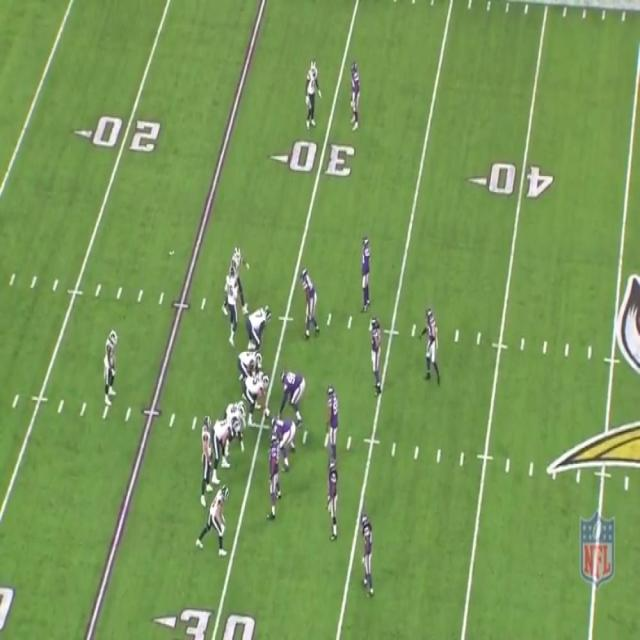center: (247, 373, 270, 419)
db: (320, 463, 341, 544), (424, 312, 440, 386), (347, 64, 363, 131), (361, 520, 374, 588), (361, 240, 370, 307)
lb: (324, 384, 341, 460), (368, 319, 382, 385)
qb: (102, 325, 121, 400)
